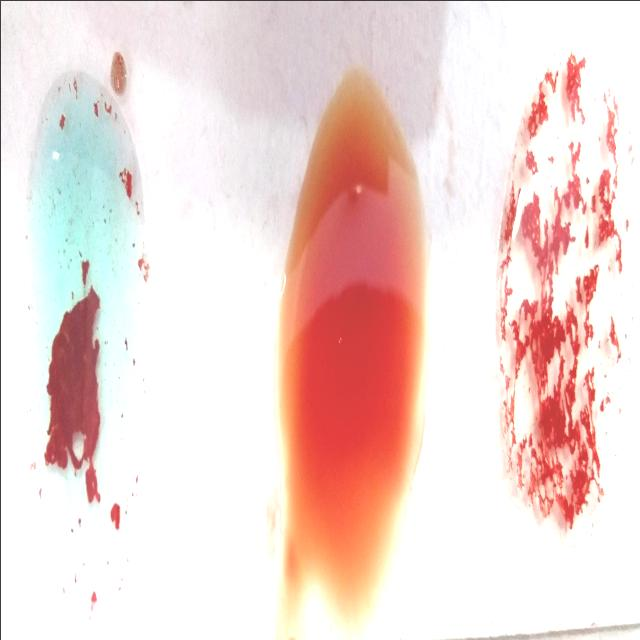A: (22, 77, 140, 608)
D: (491, 39, 638, 548)
